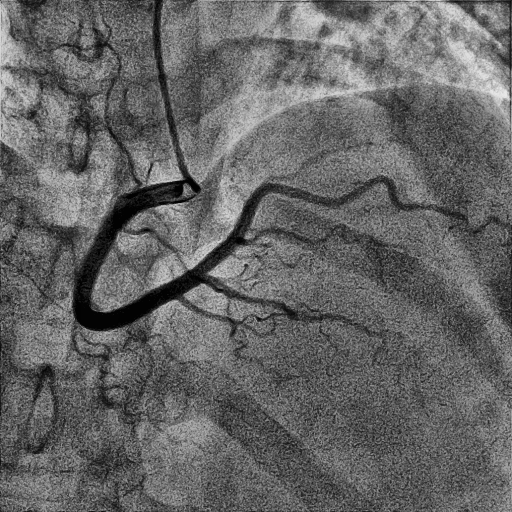pborca: (190, 173, 462, 273)
pda: (200, 275, 367, 332)
rca: (73, 181, 199, 331)
